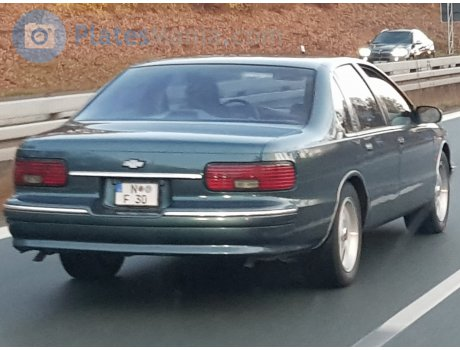License Plates: (117, 182, 152, 203)
